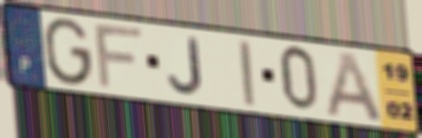0: (276, 43, 322, 117)
A: (323, 49, 386, 124)
F: (92, 23, 147, 91)
G: (43, 15, 95, 88)
I: (235, 38, 258, 109)
J: (166, 35, 206, 98)
